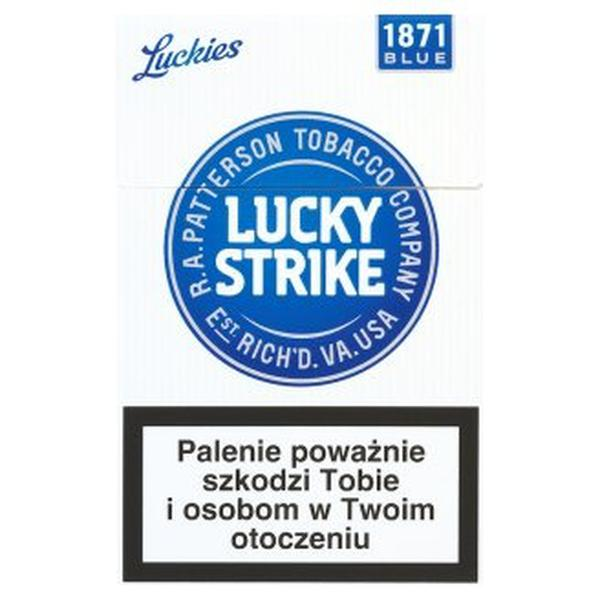lucky_strike_blue: (125, 12, 478, 584)
